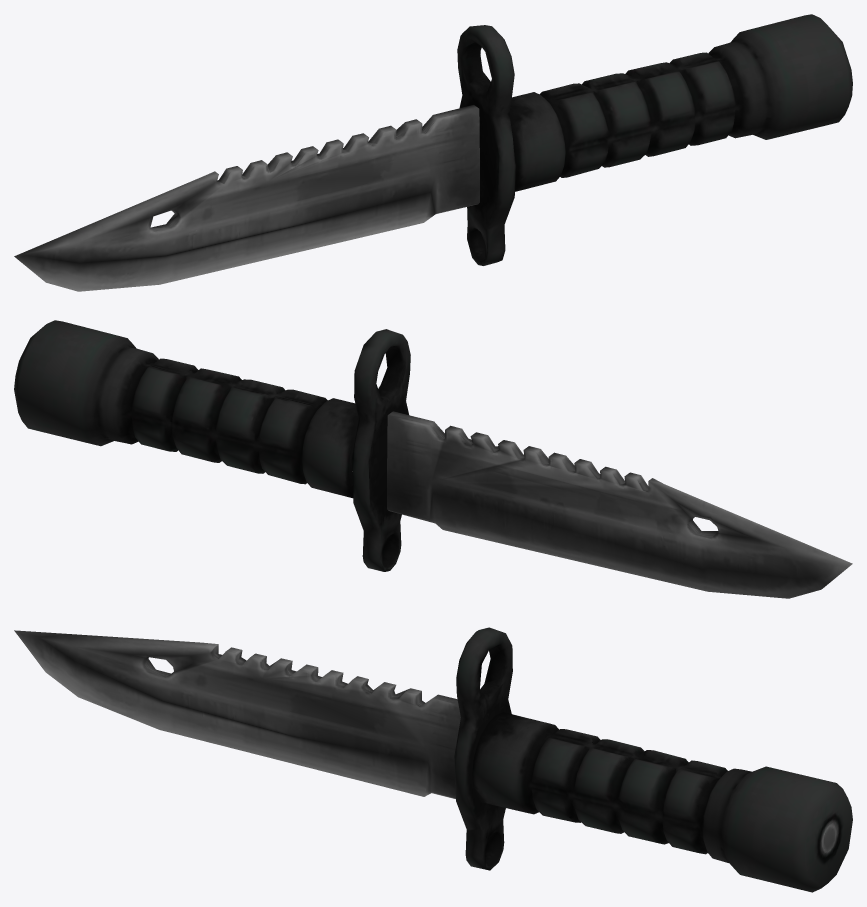
File: combat-knife.glb
3 renders of one model, top to bottom at view 1: azimuth 30°, elevation 25°; view 2: azimuth 150°, elevation 25°; view 3: azimuth 330°, elevation 25°, orthographic.
Parts seen in each view (by area): view 1: Knife_LOD0; view 2: Knife_LOD0; view 3: Knife_LOD0.
Part boxes in pixels (<box>): Knife_LOD0: <box>14,14,852,291</box>; Knife_LOD0: <box>14,320,852,598</box>; Knife_LOD0: <box>14,627,852,892</box>.
Bounding box in the file's own units: 0.4057 × 0.1121 × 0.049.
Materials: 1 (1 with a texture image).
